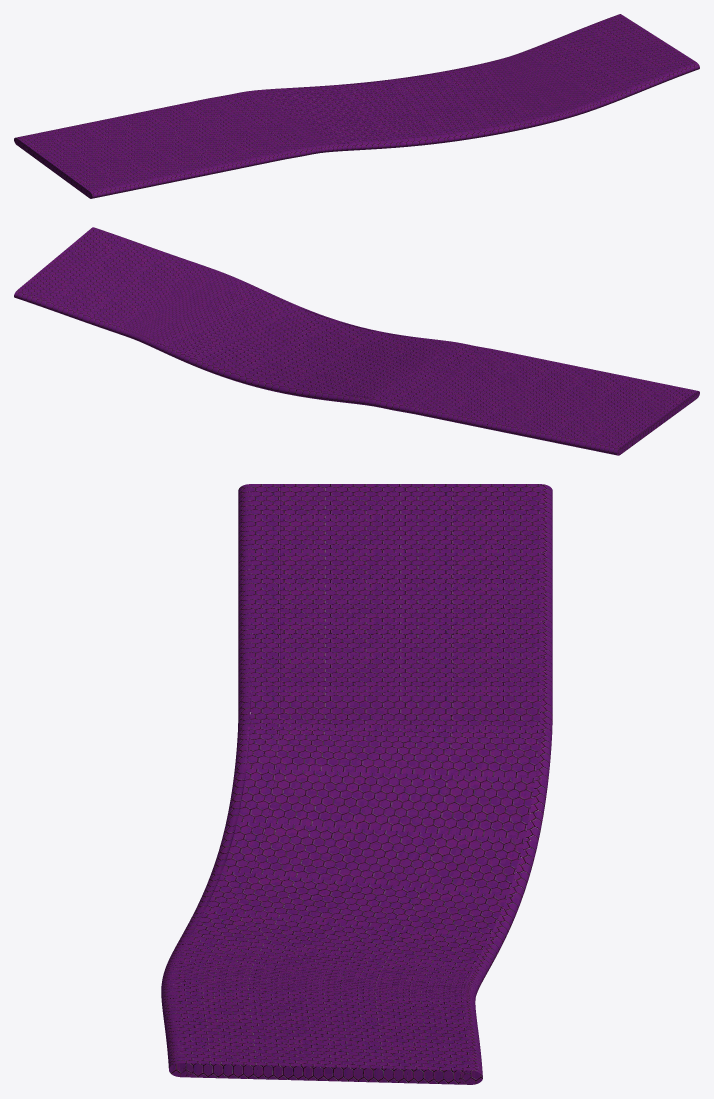
Rendered from test-level-mesh-2b.glb.
3 views of the same model, one above another, from view 1: azimuth 30°, elevation 25°; view 2: azimuth 150°, elevation 25°; view 3: azimuth 270°, elevation 25° (orthographic). The views are drawn at different scales.
Visible parts, largest first — view 1: test-track-3; view 2: test-track-3; view 3: test-track-3.
Part boxes in pixels (<box>): test-track-3: <box>14,14,699,198</box>; test-track-3: <box>14,227,699,455</box>; test-track-3: <box>161,484,552,1084</box>.
Size of the model in its own units: 36.23 by 1.92 by 10.4.
2 materials, 2 textured.
